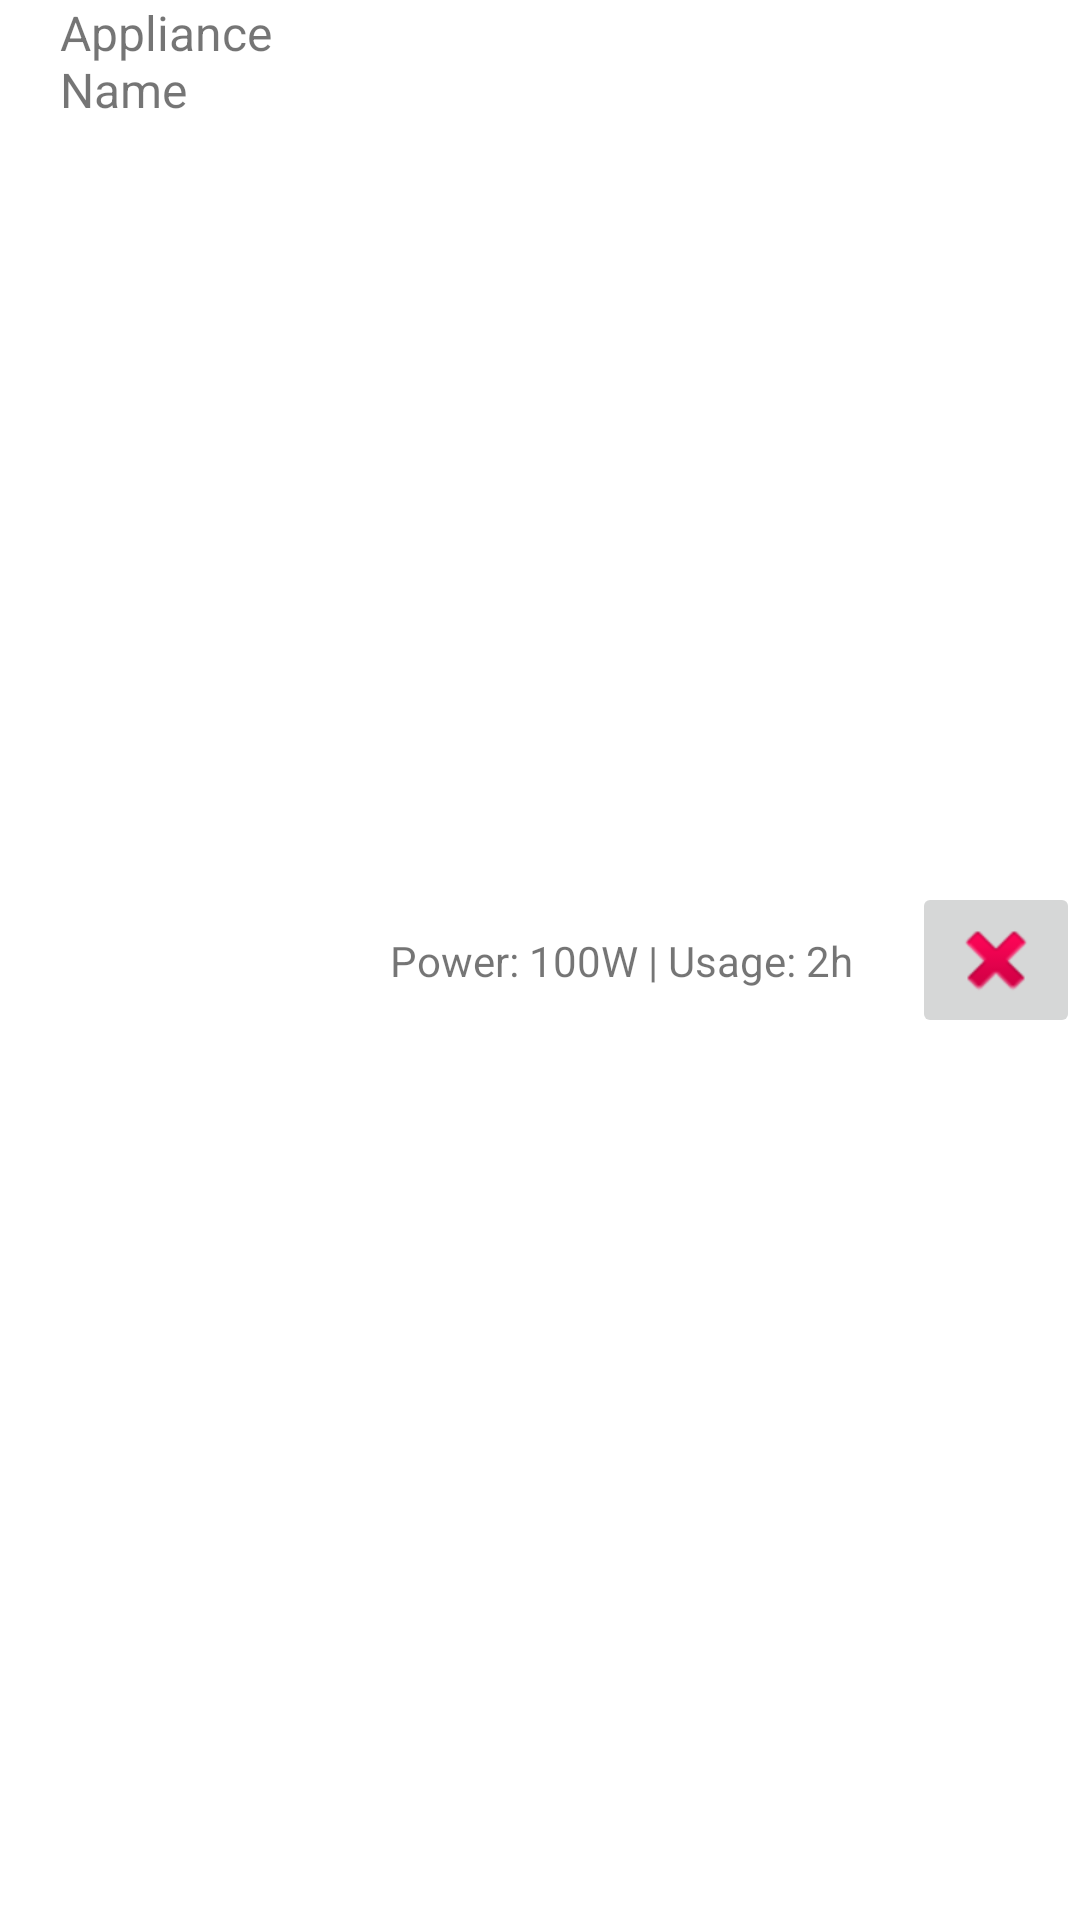

Where icons sit on this 1080 x 1920 app screen, as (x1, y1, x2, y2):
Delete Appliance: (924, 900, 1068, 1020)
